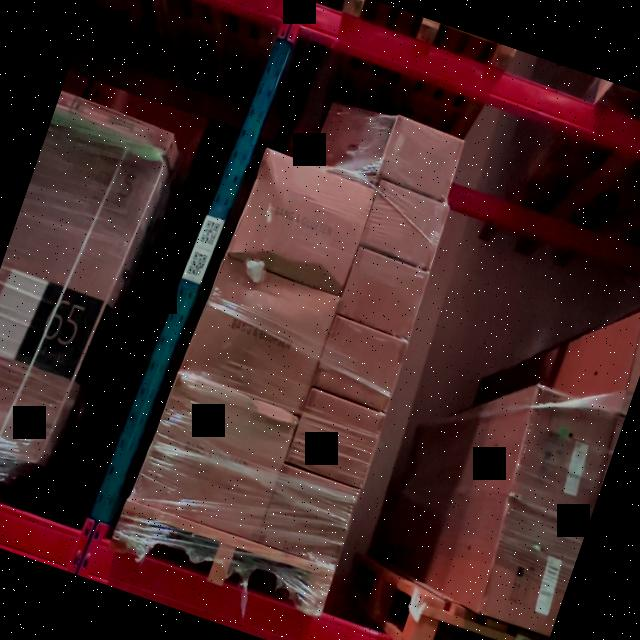box: (133, 376, 298, 542), (184, 260, 338, 410), (230, 148, 378, 294), (506, 392, 620, 522), (477, 505, 586, 636), (260, 468, 358, 566), (286, 391, 384, 488), (314, 320, 406, 410), (338, 251, 428, 337), (361, 182, 450, 268), (381, 118, 466, 200), (312, 102, 394, 185), (64, 96, 180, 152), (615, 313, 640, 415)
